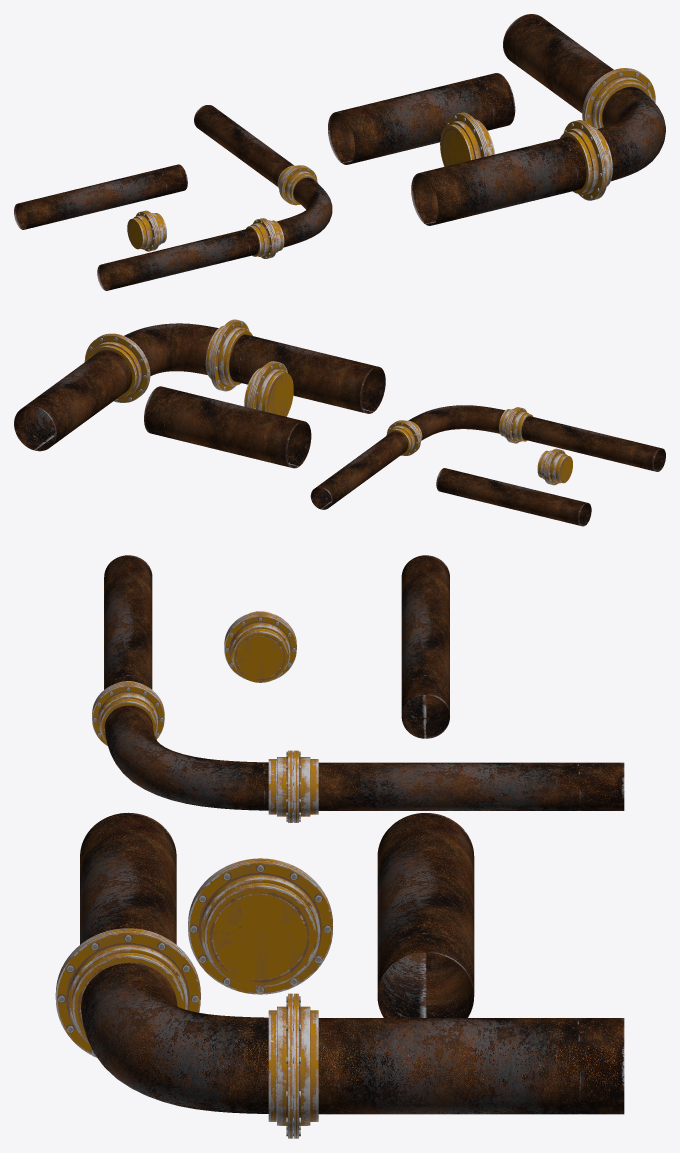
File: Pipes.fbx
The picture shows the model from 3 angles, top to bottom: view 1: azimuth 30°, elevation 25°; view 2: azimuth 150°, elevation 25°; view 3: azimuth 270°, elevation 25°; orthographic projection. The views are drawn at different scales.
Visible parts, largest first — view 1: Cylinder.021, Cylinder.024, Cylinder.025, Cylinder.009, Cylinder.012, Cylinder.023, Cylinder.022, Cylinder.018, Cylinder.020, Cylinder.019, Cylinder.017, Cylinder.011; view 2: Cylinder.024, Cylinder.021, Cylinder.025, Cylinder.009, Cylinder.022, Cylinder.012, Cylinder.023, Cylinder.018, Cylinder.020, Cylinder.019, Cylinder.017, Cylinder.011; view 3: Cylinder.025, Cylinder.023, Cylinder.024, Cylinder.019, Cylinder.018, Cylinder.022, Cylinder.021, Cylinder.020, Cylinder.009, Cylinder.012, Cylinder.017, Cylinder.011.
Part boxes in pixels (x1,y1,x2,y2): Cylinder.021: [411, 137, 586, 225]; Cylinder.024: [328, 73, 515, 164]; Cylinder.025: [503, 14, 613, 113]; Cylinder.009: [14, 164, 187, 229]; Cylinder.012: [97, 228, 258, 290]; Cylinder.023: [597, 87, 665, 181]; Cylinder.022: [560, 68, 655, 200]; Cylinder.018: [194, 105, 293, 186]; Cylinder.020: [277, 177, 332, 247]; Cylinder.019: [440, 112, 494, 166]; Cylinder.017: [246, 165, 318, 258]; Cylinder.011: [127, 210, 166, 251]; Cylinder.024: [144, 386, 311, 468]; Cylinder.021: [229, 334, 385, 413]; Cylinder.025: [14, 350, 132, 451]; Cylinder.009: [436, 468, 591, 526]; Cylinder.022: [84, 319, 252, 402]; Cylinder.012: [521, 416, 665, 471]; Cylinder.023: [124, 323, 218, 376]; Cylinder.018: [310, 431, 407, 509]; Cylinder.020: [408, 405, 504, 440]; Cylinder.019: [244, 361, 293, 416]; Cylinder.017: [386, 407, 533, 455]; Cylinder.011: [537, 448, 572, 485]; Cylinder.025: [318, 1018, 624, 1114]; Cylinder.023: [81, 963, 268, 1113]; Cylinder.024: [377, 813, 474, 1017]; Cylinder.019: [188, 858, 332, 994]; Cylinder.018: [318, 762, 624, 810]; Cylinder.022: [55, 928, 318, 1138]; Cylinder.021: [80, 812, 176, 944]; Cylinder.020: [104, 705, 268, 810]; Cylinder.009: [401, 555, 449, 738]; Cylinder.012: [104, 555, 152, 689]; Cylinder.017: [92, 681, 318, 822]; Cylinder.011: [224, 611, 296, 682].
Size of the model in its own units: 744 by 87.81 by 344.
1 material, 1 textured.
